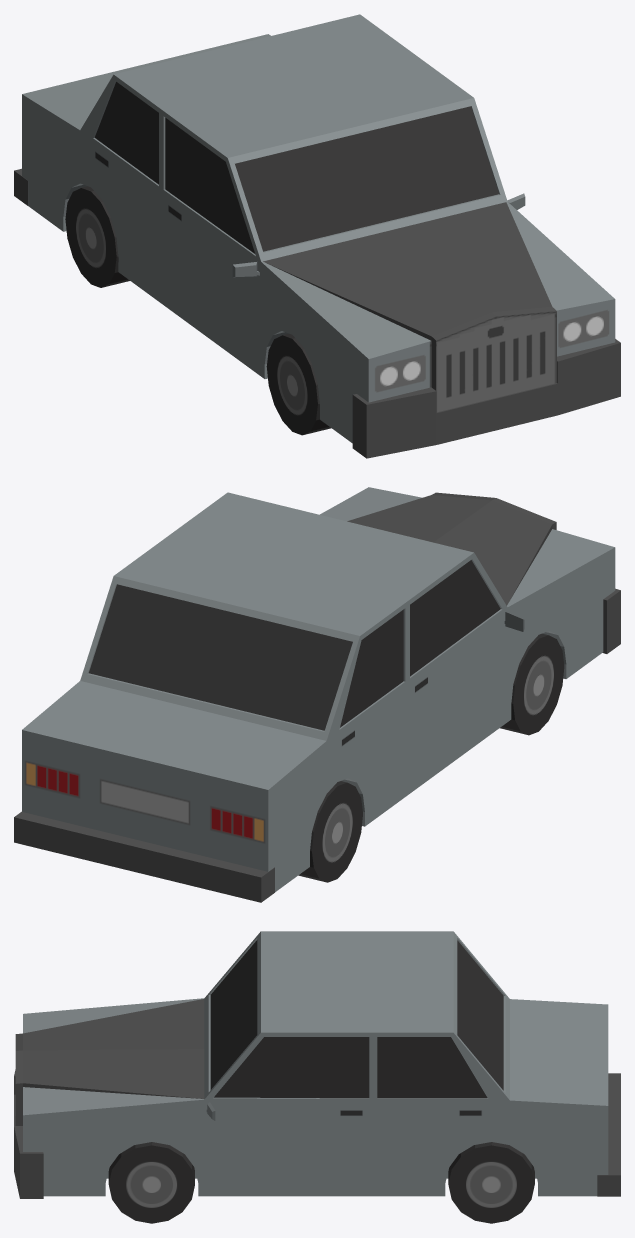
Rendered from vehicle-car-color03.glb.
The picture shows the model from 3 angles, top to bottom: view 1: azimuth 30°, elevation 25°; view 2: azimuth 150°, elevation 25°; view 3: azimuth 270°, elevation 25°; orthographic projection. The views are drawn at different scales.
Visible parts, largest first — view 1: model; view 2: model; view 3: model.
Boxes of the visible parts, <box> form: model: <box>14,14,620,458</box>; model: <box>14,487,620,902</box>; model: <box>14,931,620,1223</box>.
Size of the model in its own units: 2.96 by 2.2 by 6.32.
Materials: 1 (1 with a texture image).
